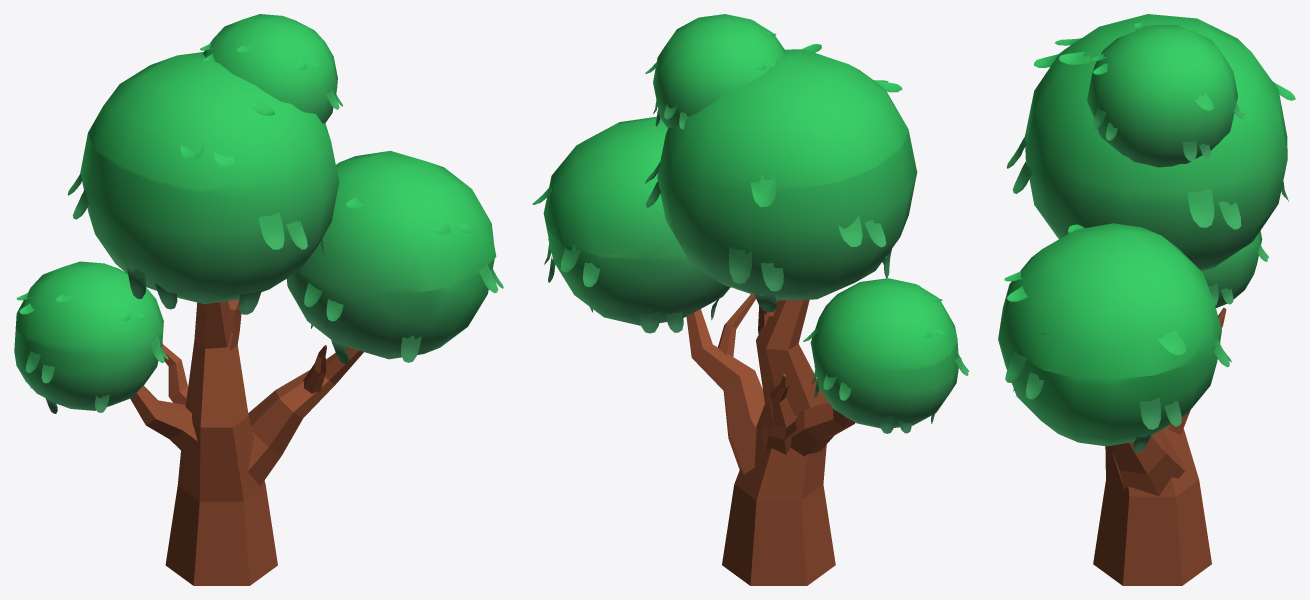
File: Tree_1.fbx
3 renders of one model, left to right at view 1: azimuth 30°, elevation 25°; view 2: azimuth 150°, elevation 25°; view 3: azimuth 270°, elevation 25°, orthographic. The views are drawn at different scales.
Visible parts, largest first — view 1: Tree_1; view 2: Tree_1; view 3: Tree_1.
Boxes of the visible parts, bbox=[...] form: Tree_1: bbox=[14, 14, 503, 585]; Tree_1: bbox=[532, 14, 969, 585]; Tree_1: bbox=[998, 14, 1295, 585].
Bounding box in the file's own units: 2.05 × 1.16 × 2.41.
